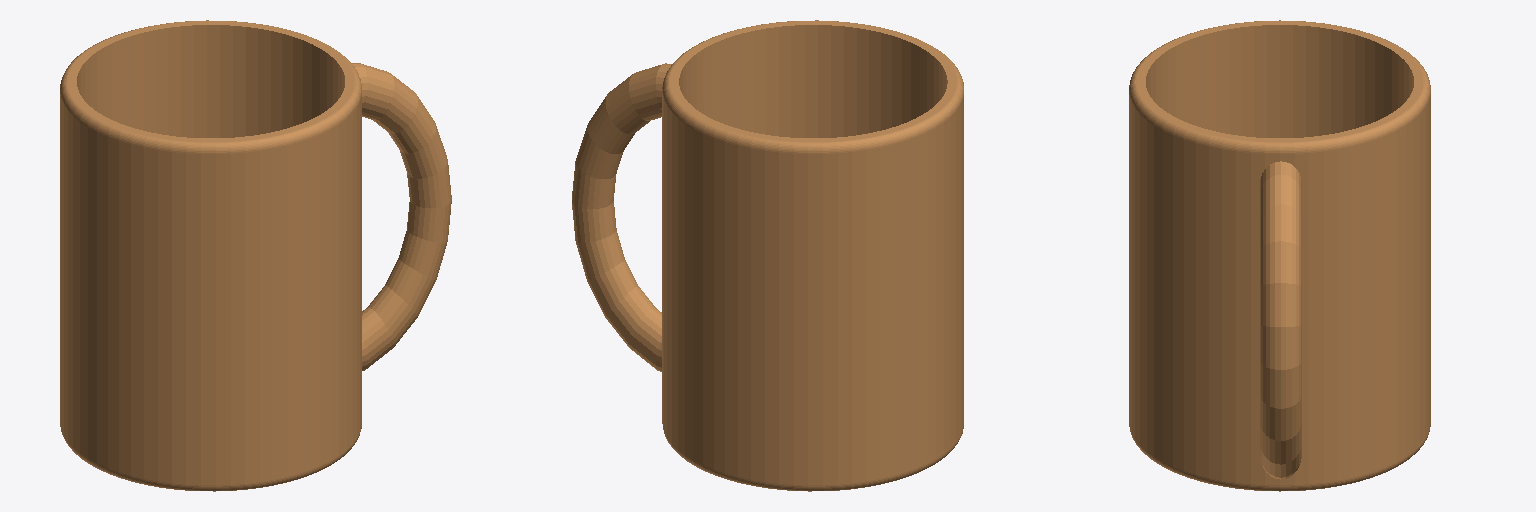
The robot description file, URDF, robot "mug":
<?xml version="1.0"?>
                <robot name="mug">
                <link name="base_link">
                    <visual>
                    <geometry>
                        <mesh filename="top_watertight_tiny.stl" scale="1.0 1.0 1.0"/>
                    </geometry>
                    <material name="object_material">
                        <color rgba="0.8 0.6 0.4 1.0"/>
                    </material>
                    </visual>
                    <collision>
                    <geometry>
                        <mesh filename="top_watertight_tiny.stl" scale="1.0 1.0 1.0"/>
                    </geometry>
                    </collision>
                    <inertial>
                    <mass value="1.0"/>
                    <inertia ixx="1.0" ixy="0.0" ixz="0.0" iyy="1.0" iyz="0.0" izz="1.0"/>
                    </inertial>
                </link>
                </robot>

--- Facts derived from the render (not from the file) ---
Views: 3 orthographic renders of the robot side by side, from view 1: azimuth 30°, elevation 25°; view 2: azimuth 150°, elevation 25°; view 3: azimuth 270°, elevation 25°.
Model mug with 1 links and 0 joints (none), rooted at base_link, posed every joint at zero.
Visible links, largest first — view 1: base_link; view 2: base_link; view 3: base_link.
Link boxes in pixels (x1,y1,x2,y2): base_link: (60,20,451,491); base_link: (572,20,963,491); base_link: (1129,20,1430,491).
Bounding box of the posed robot: 0.1159 × 0.0821 × 0.1045 m (x, y, z).
1 mesh visuals loaded from 1 distinct referenced files (1 binary STL).